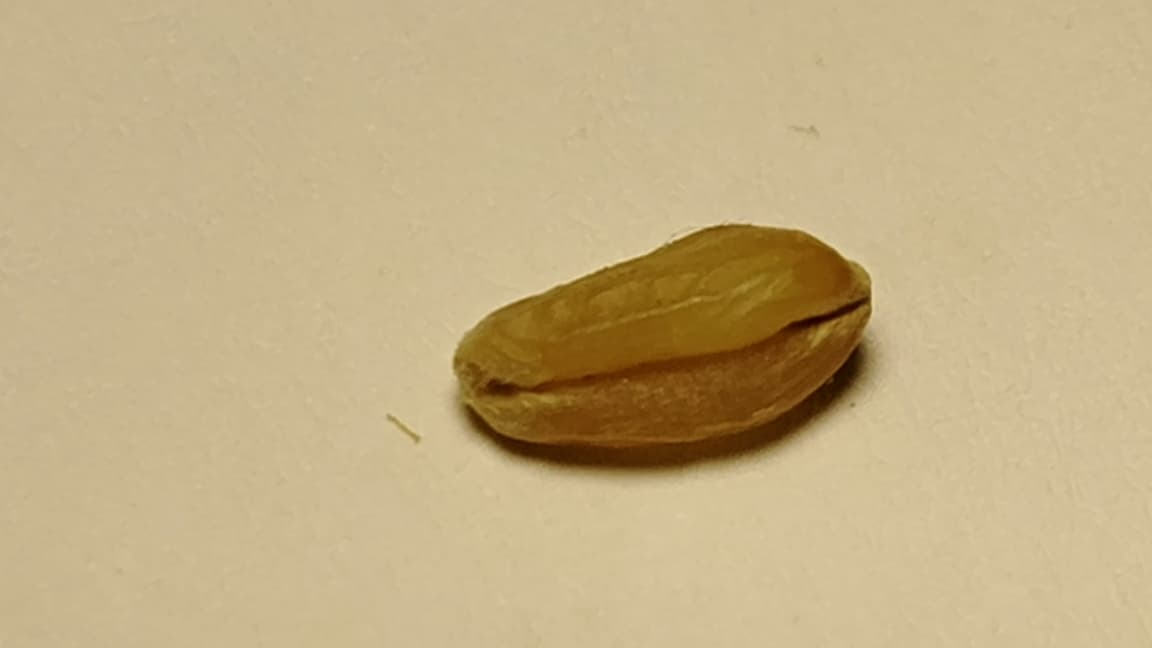healthy: (454, 224, 870, 447)
